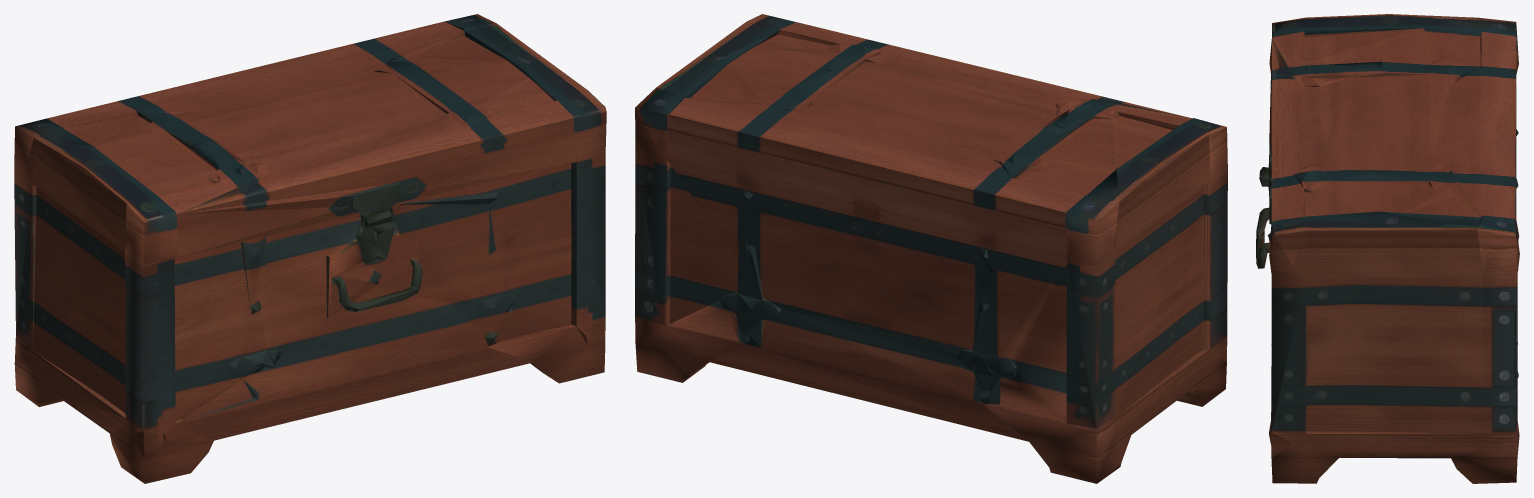
The model's file is PR_IntactWoodenChest.fbx.
3 views of the same model, side by side, from view 1: azimuth 30°, elevation 25°; view 2: azimuth 150°, elevation 25°; view 3: azimuth 270°, elevation 25° (orthographic). The views are drawn at different scales.
Visible parts, largest first — view 1: Mesh_0; view 2: Mesh_0; view 3: Mesh_0.
Part boxes in pixels (x1,y1,x2,y2): Mesh_0: (14, 14, 606, 483); Mesh_0: (635, 14, 1227, 483); Mesh_0: (1256, 14, 1519, 483).
Bounding box in the file's own units: 190 × 107 × 98.15.
1 material, 1 textured.
